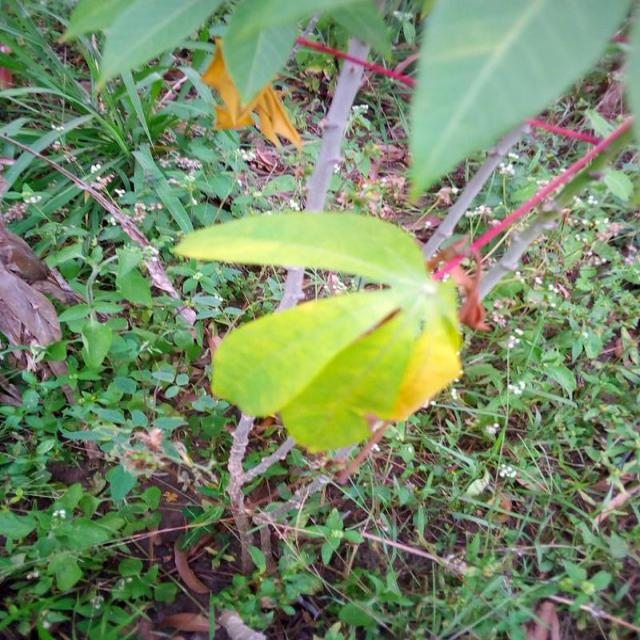cassava leaf: (171, 208, 464, 453), (405, 0, 635, 205)
